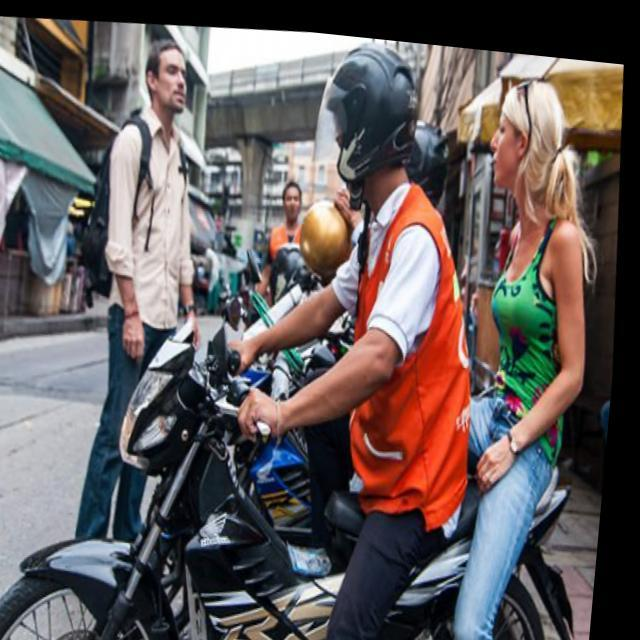Helmet: (317, 32, 438, 206)
Nonhelmet: (477, 63, 571, 195), (135, 28, 197, 122)
